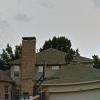Chimney: (14, 27, 46, 84)
